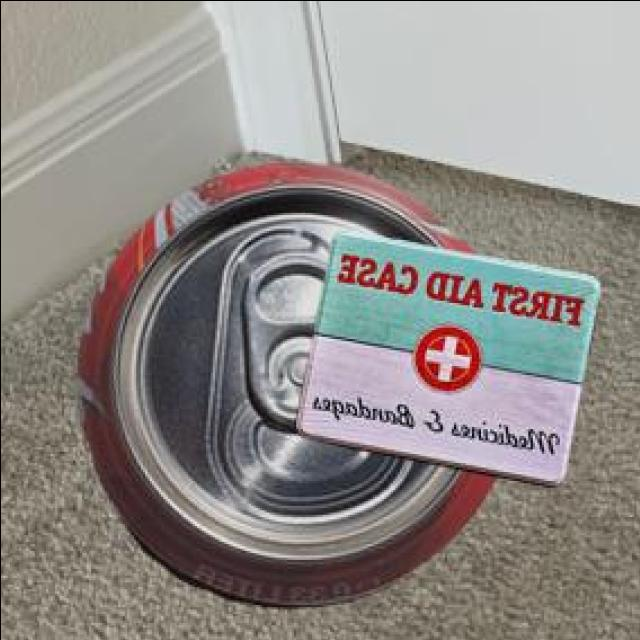logam: (82, 159, 497, 603), (299, 226, 601, 481)
